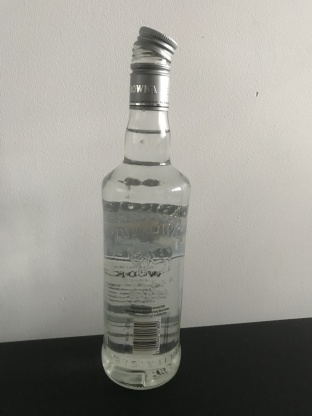nakretka: (127, 23, 179, 111)
